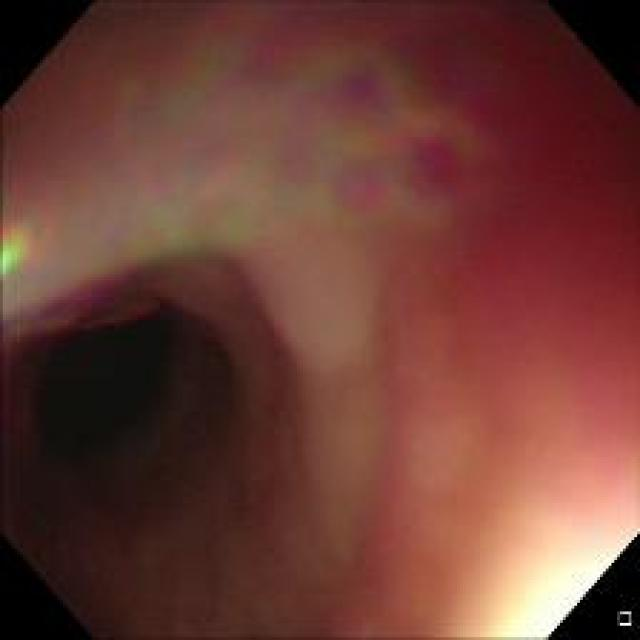blur: (11, 50, 482, 300)
color misalignment: (21, 65, 469, 281), (138, 5, 394, 89), (0, 215, 44, 295)
contrast: (15, 229, 272, 570)
saturation: (505, 530, 631, 628)
